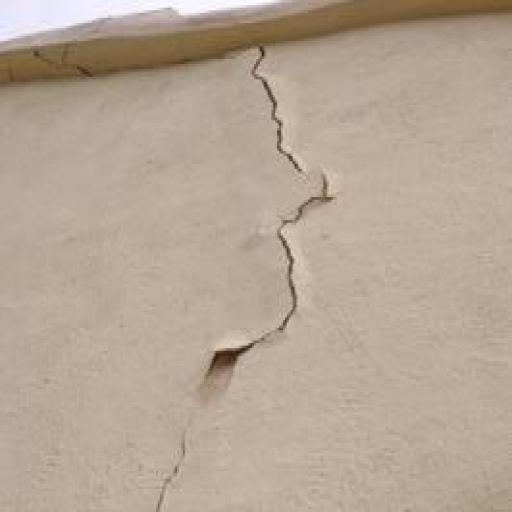spalling: (194, 50, 338, 414), (149, 432, 190, 512)
